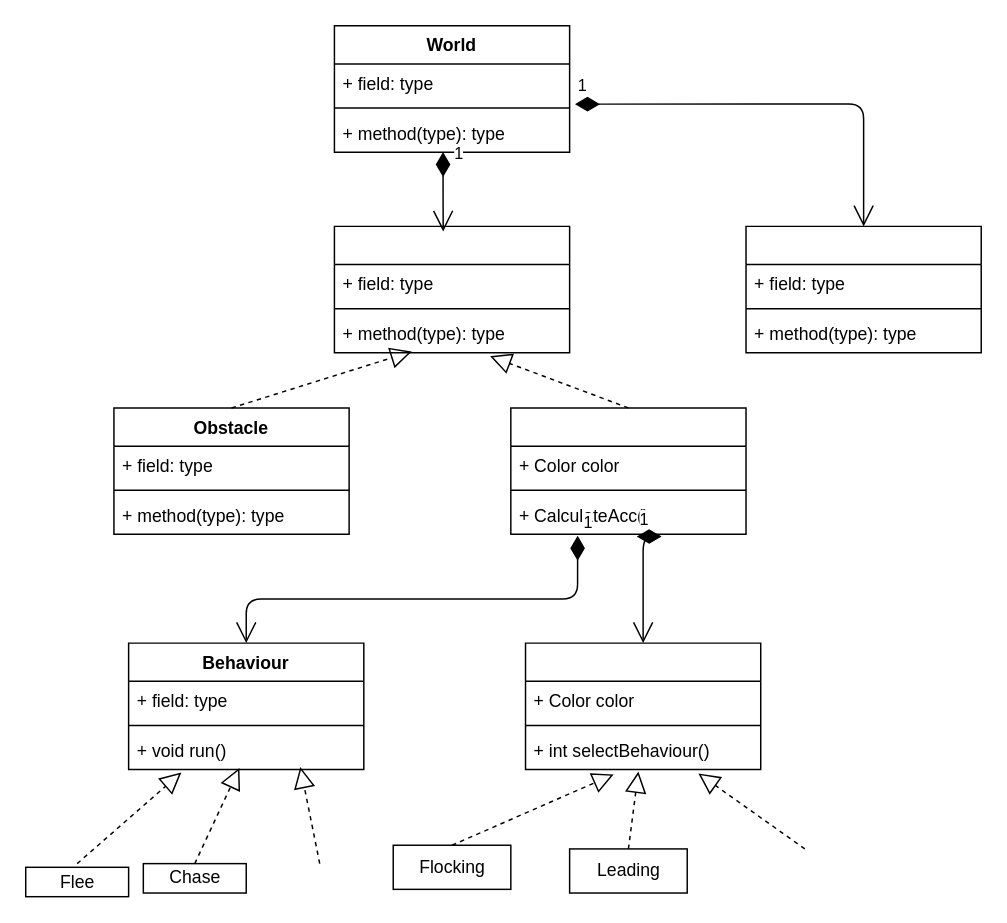
Some shapes in this 1007 by 923 pixel diagram are drawn without their labels. The box of each missing label's shape, as (x1, y1, x2, y2) in pixels:
Boid: (509, 406, 746, 534)
Boundaries: (745, 225, 981, 353)
Brain: (524, 642, 761, 770)
Entity: (333, 225, 570, 353)
